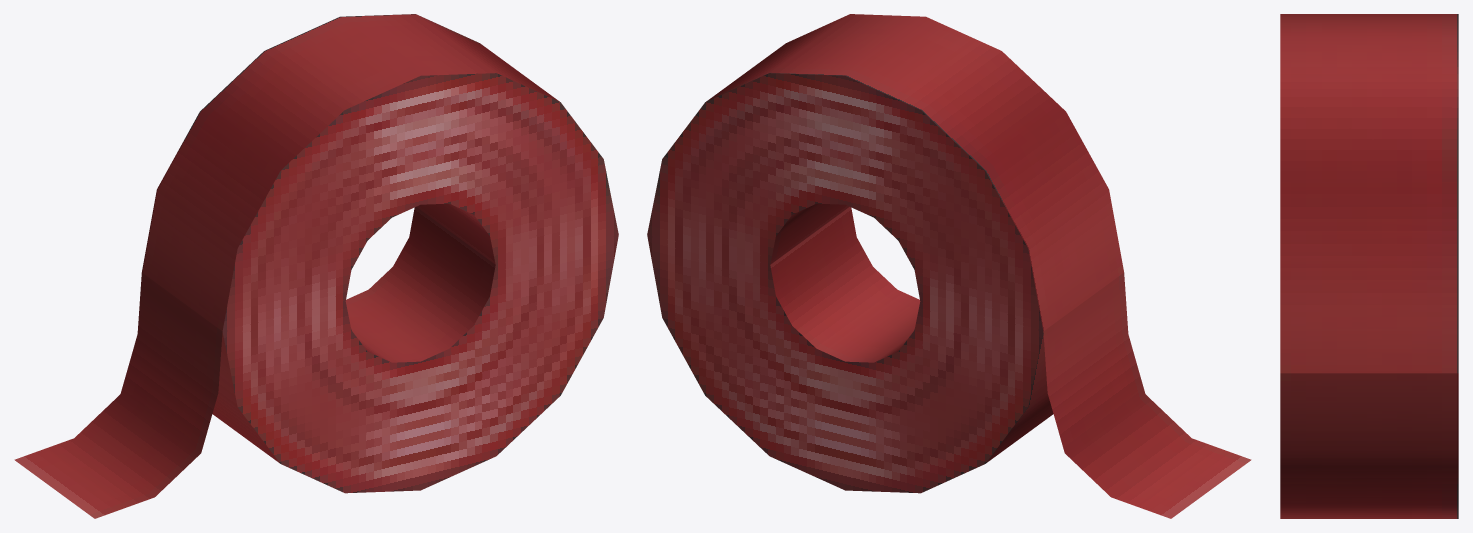
Rendered from red_tape.fbx.
3 views of the same model, side by side, from view 1: azimuth 30°, elevation 25°; view 2: azimuth 150°, elevation 25°; view 3: azimuth 270°, elevation 25° (orthographic). The views are drawn at different scales.
Visible parts, largest first — view 1: redTapeRoll, redTapeEnd; view 2: redTapeRoll, redTapeEnd; view 3: redTapeRoll.
Boxes of the visible parts, left/top/right/bottom form: redTapeRoll: left=142, top=14, right=618, bottom=493; redTapeEnd: left=14, top=272, right=222, bottom=518; redTapeRoll: left=647, top=14, right=1123, bottom=493; redTapeEnd: left=1043, top=272, right=1251, bottom=518; redTapeRoll: left=1280, top=14, right=1458, bottom=518.
Size of the model in its own units: 141 by 107 by 37.64.
Materials: 1 (1 with a texture image).
